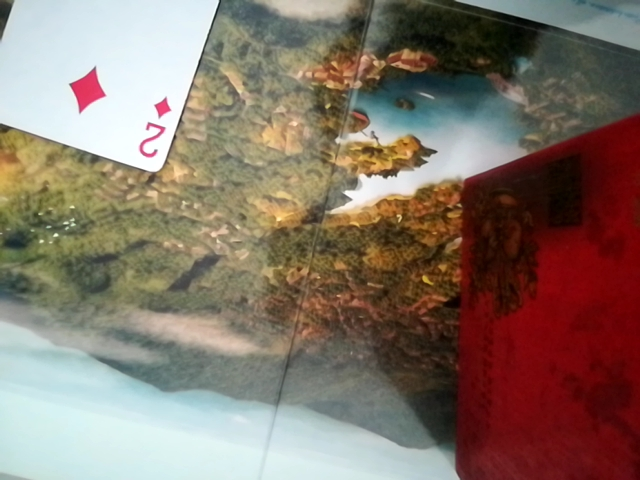fk 2: (0, 0, 256, 178)
